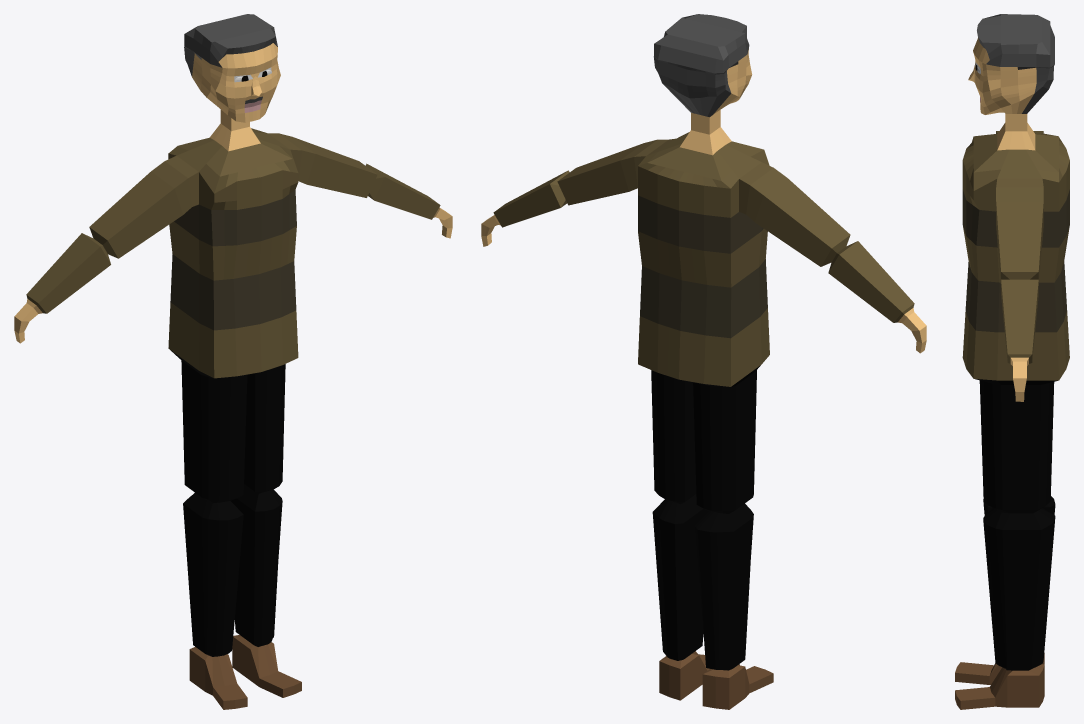
File: DAYI.fbx
3 views of the same model, side by side, from view 1: azimuth 30°, elevation 25°; view 2: azimuth 150°, elevation 25°; view 3: azimuth 270°, elevation 25° (orthographic).
Visible parts, largest first — view 1: kol, tşört.001, tşört, KOL, Cube, KOL.001, ayakkabı, SAÇ; view 2: kol, tşört.001, tşört, KOL, SAÇ, KOL.001, ayakkabı, Cube; view 3: kol, tşört.001, KOL.001, tşört, SAÇ, Cube, ayakkabı, el.002.
Boxes of the visible parts, x1,y1,x2,y2 form: kol: (170,350,285,656); tşört.001: (168,128,298,378); tşört: (170,189,296,330); KOL: (26,155,198,313); Cube: (192,43,280,151); KOL.001: (268,133,440,219); ayakkabı: (189,635,301,709); SAÇ: (184,14,277,76); kol: (651,365,760,670); tşört.001: (638,132,769,386); tşört: (638,195,767,338); KOL: (739,162,914,322); SAÇ: (653,14,749,117); KOL.001: (493,139,667,227); ayakkabı: (659,651,773,709); Cube: (680,49,752,155); kol: (975,379,1057,670); tşört.001: (962,133,1069,380); KOL.001: (996,178,1043,363); tşört: (962,189,1069,332); SAÇ: (977,14,1054,113); Cube: (968,38,1036,150); ayakkabı: (955,653,1044,709); el.002: (1010,357,1028,401).
Size of the model in its own units: 141 by 203 by 31.9.
